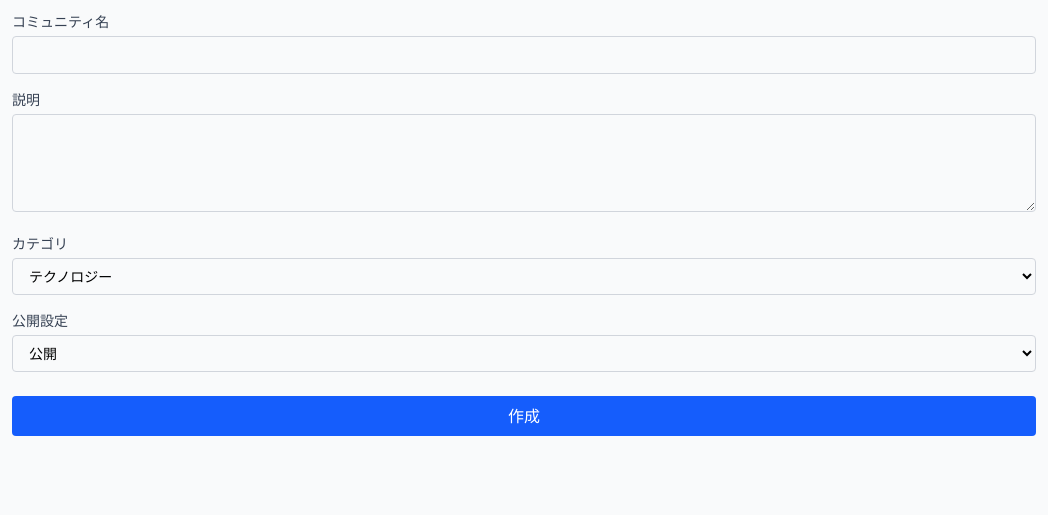
CommunityCreateForm コンポーネント › 名前が未入力で送信するとバリデーションエラーを表示する
In the text box labelled "説明": (524,163) left=12, top=114, right=1036, bottom=212, type "説明テキスト"
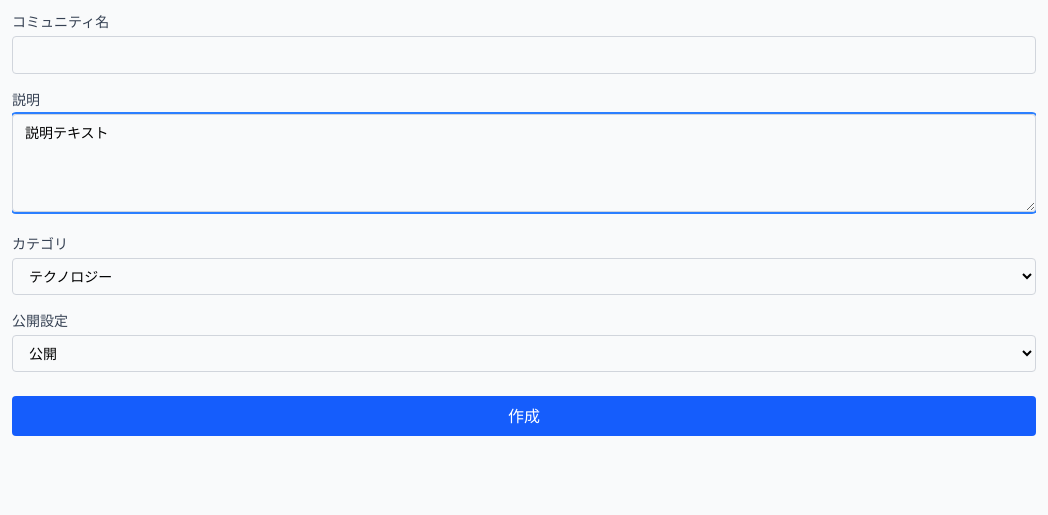
Click the button "作成": (524,416) left=12, top=396, right=1036, bottom=436
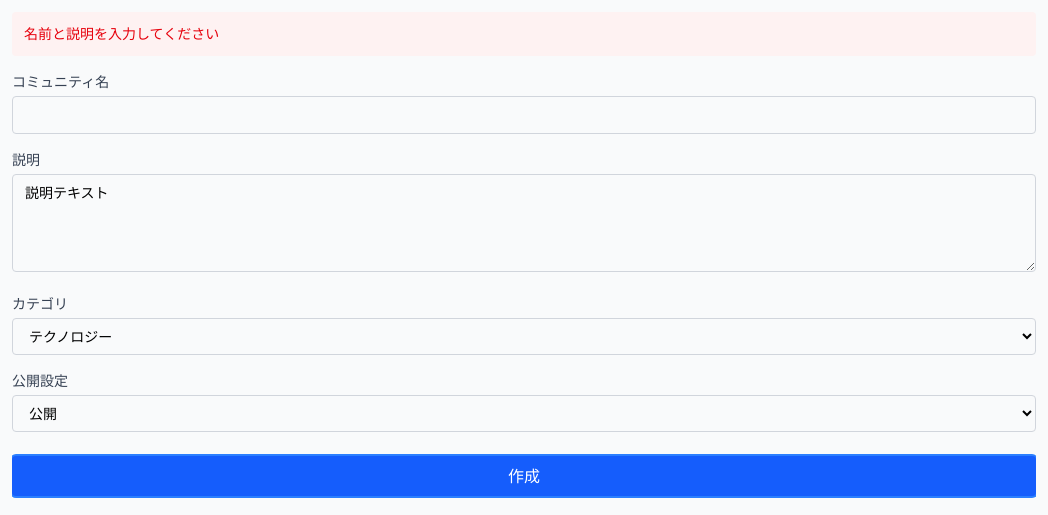
Check: the message reads "名前と説明を入力してください", box left=24, top=25, right=219, bottom=42
